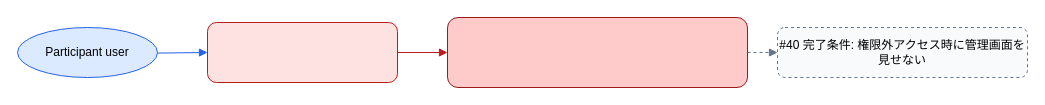
The diagram is 1045 pixels wide and 105 high, and some of its shapes have lost their labels. Here are the shapes that lost their labels. From the top down, the box of each, then its label:
(206, 22, 398, 82): /admin へ直接アクセス
(446, 16, 748, 88): 403 Forbidden 表示 理由提示 + /participant へ戻る導線
